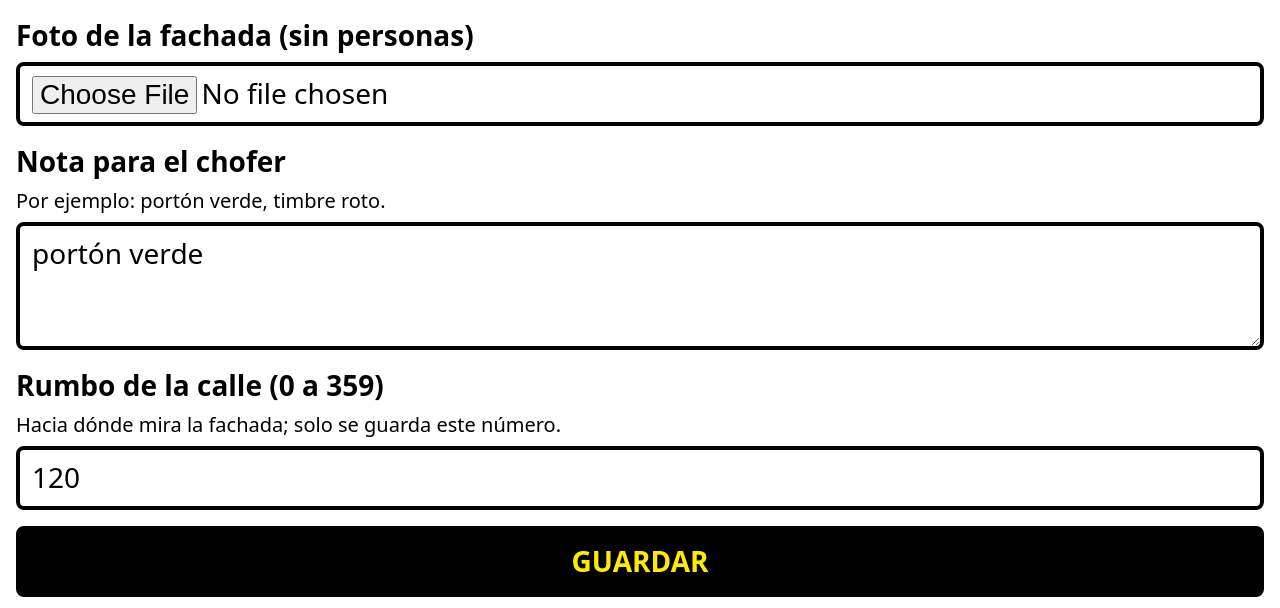
Test: detalle del local › guarda nota y rumbo
(page scrolled)
Replace the text in the text box labelled "Nota para el chofer" with "timbre roto" at [640, 286], box x1=16 y1=222 x2=1264 y2=350
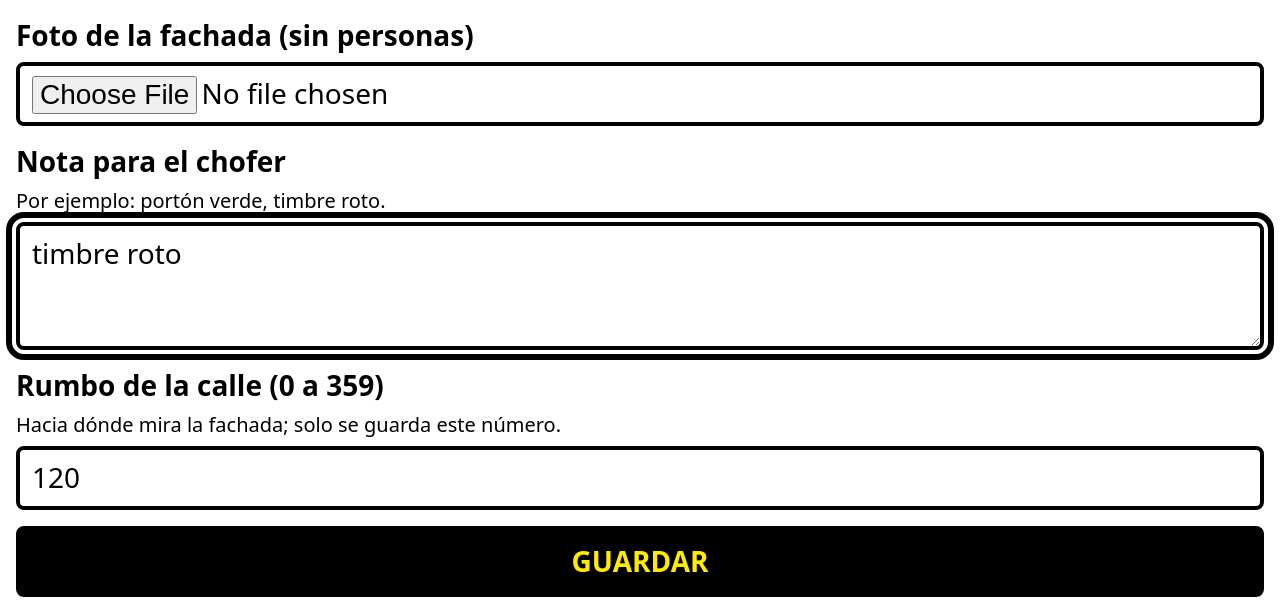
Click the button "GUARDAR".
click(640, 561)  # box x1=16 y1=526 x2=1264 y2=597
(page scrolled)
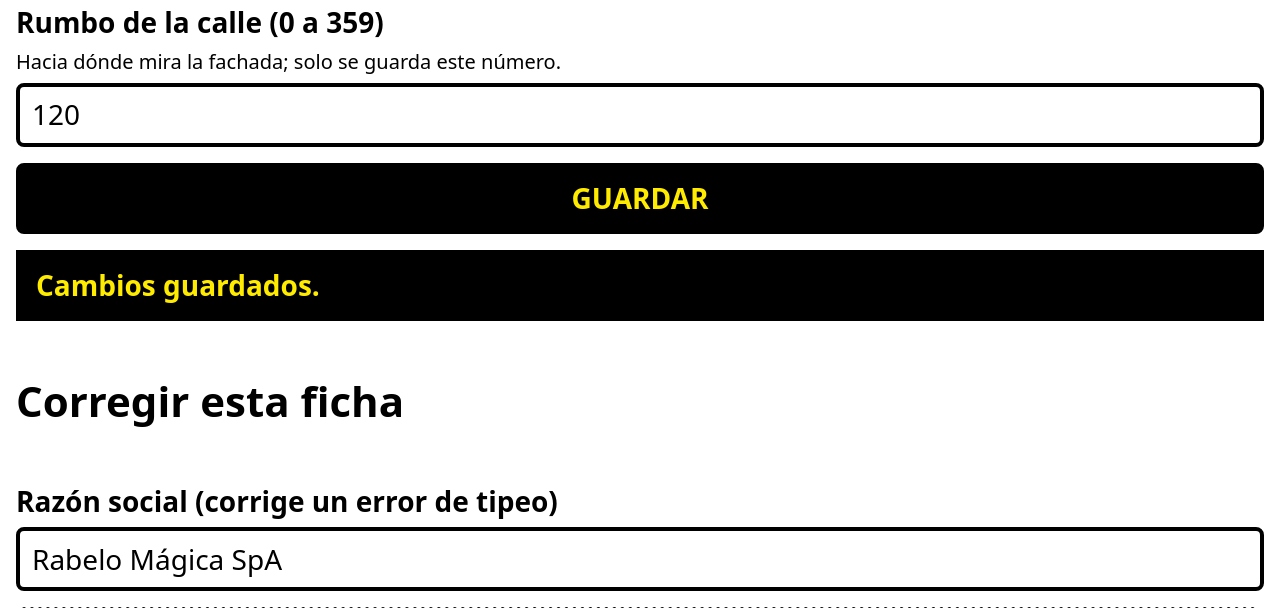
expect the text "Cambios guardados." is shown: met, box x1=16 y1=250 x2=1264 y2=321
